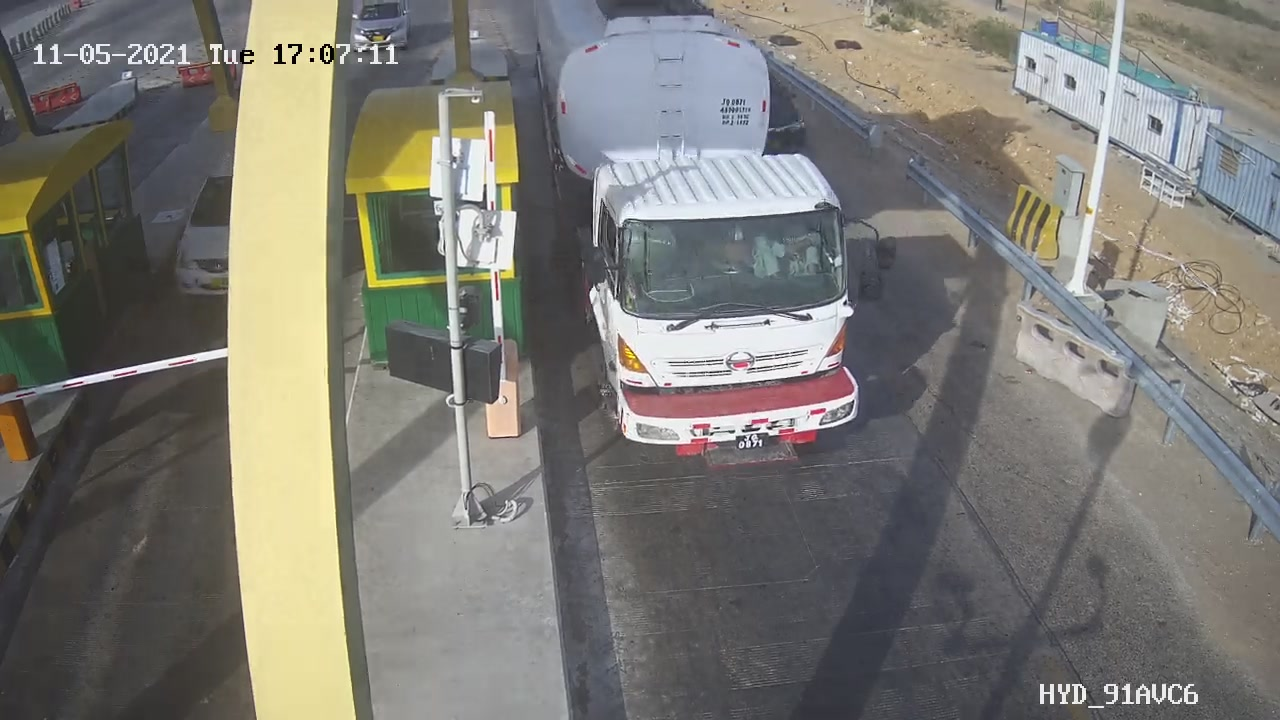F6: (525, 4, 914, 491)
